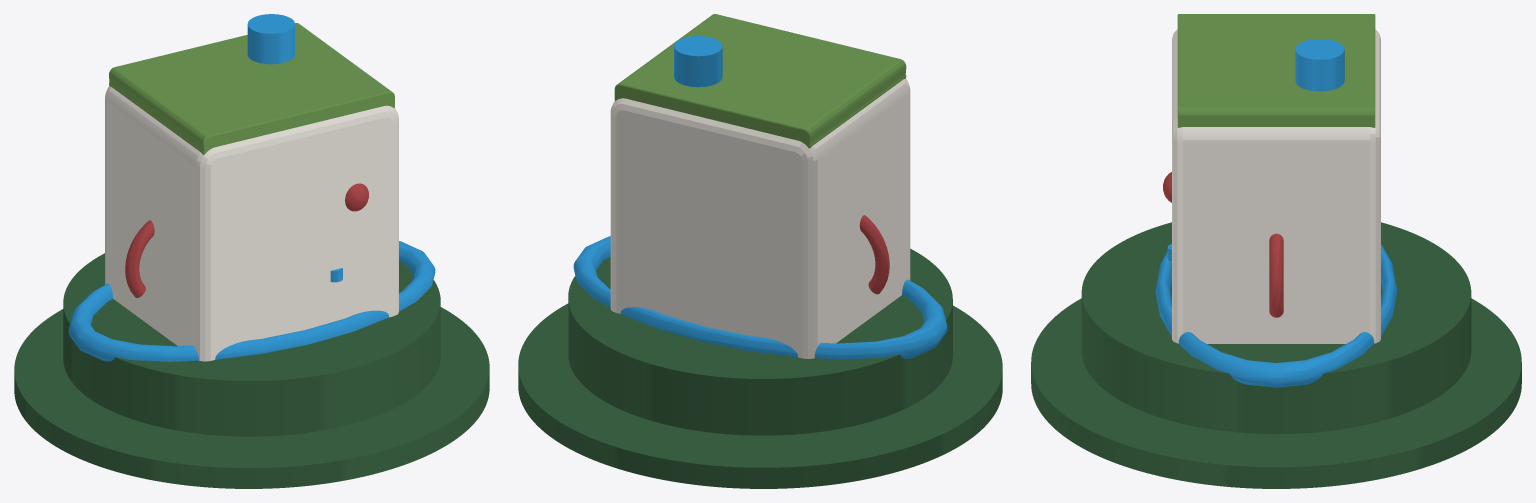
File: 0393_欧洲文明图鉴_伽利略望远镜.glb
The picture shows the model from 3 angles, left to right: view 1: azimuth 30°, elevation 25°; view 2: azimuth 150°, elevation 25°; view 3: azimuth 270°, elevation 25°; orthographic projection. The views are drawn at different scales.
Visible parts, largest first — view 1: card_0393; view 2: card_0393; view 3: card_0393.
Part boxes in pixels (bbox=[...]): card_0393: bbox=[14, 14, 489, 488]; card_0393: bbox=[518, 14, 1002, 488]; card_0393: bbox=[1031, 14, 1521, 488].
Size of the model in its own units: 1.21 by 1 by 1.19.
